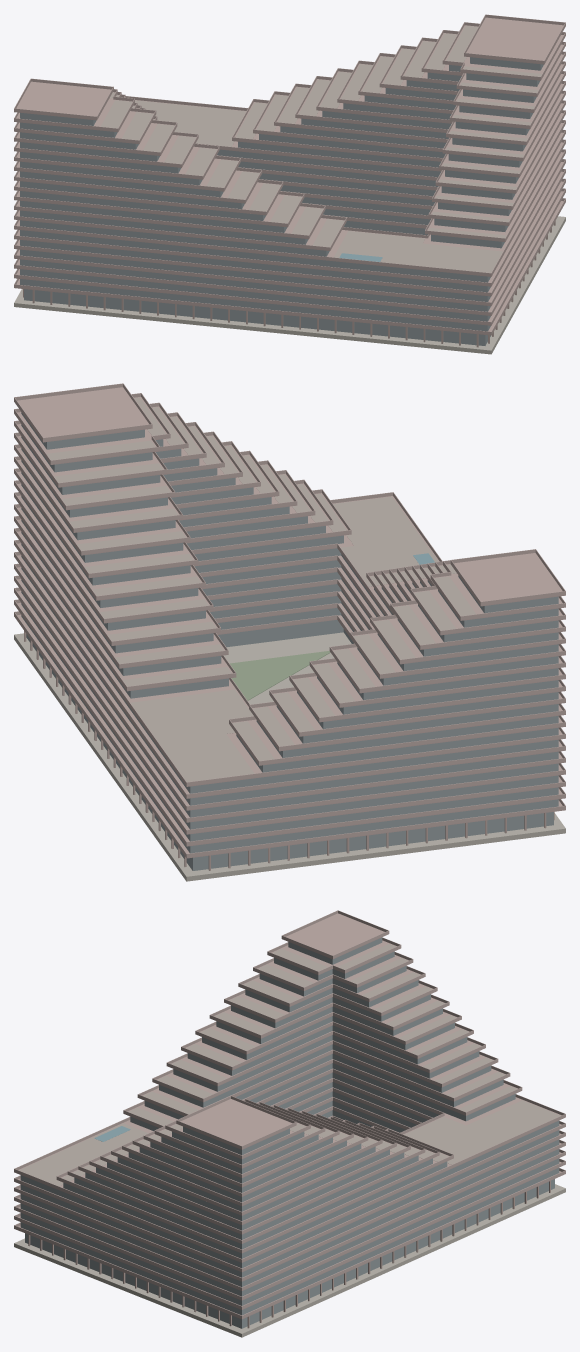
Rendered from harbourwalk-terraced-reference.glb.
The picture shows the model from 3 angles, top to bottom: view 1: azimuth 30°, elevation 25°; view 2: azimuth 150°, elevation 25°; view 3: azimuth 270°, elevation 25°; orthographic projection. The views are drawn at different scales.
Parts seen in each view (by area): view 1: harbourwalk-floor-01-glazing, harbourwalk-connected-foundation, harbourwalk-floor-07-glazing, harbourwalk-floor-06-glazing, harbourwalk-floor-05-glazing, harbourwalk-floor-04-glazing, harbourwalk-floor-03-glazing, harbourwalk-floor-07-terrace-surface-2, harbourwalk-floor-02-glazing, harbourwalk-floor-19-slab-2, harbourwalk-floor-07-terrace-surface-1, harbourwalk-floor-07-balustrade-1 (+111 smaller); view 2: harbourwalk-connected-foundation, harbourwalk-floor-07-terrace-surface-1, harbourwalk-floor-01-glazing, harbourwalk-floor-07-terrace-surface-2, harbourwalk-floor-07-glazing, harbourwalk-floor-19-slab-2, harbourwalk-floor-06-glazing, harbourwalk-floor-05-glazing, harbourwalk-floor-04-glazing, harbourwalk-floor-03-glazing, harbourwalk-floor-02-glazing, harbourwalk-floor-19-slab-1 (+114 smaller); view 3: harbourwalk-connected-foundation, harbourwalk-floor-01-glazing, harbourwalk-floor-07-glazing, harbourwalk-floor-06-glazing, harbourwalk-floor-07-terrace-surface-1, harbourwalk-floor-05-glazing, harbourwalk-floor-04-glazing, harbourwalk-floor-03-glazing, harbourwalk-floor-02-glazing, harbourwalk-floor-19-slab-2, harbourwalk-floor-07-balustrade-1, harbourwalk-floor-08-glazing-1 (+81 smaller).
Part boxes in pixels (bbox=[...]): harbourwalk-floor-01-glazing: bbox=[24, 221, 490, 345]; harbourwalk-connected-foundation: bbox=[14, 216, 565, 354]; harbourwalk-floor-07-glazing: bbox=[20, 149, 490, 282]; harbourwalk-floor-06-glazing: bbox=[20, 161, 490, 292]; harbourwalk-floor-05-glazing: bbox=[20, 173, 490, 301]; harbourwalk-floor-04-glazing: bbox=[20, 185, 490, 311]; harbourwalk-floor-03-glazing: bbox=[20, 197, 490, 321]; harbourwalk-floor-07-terrace-surface-2: bbox=[334, 231, 502, 272]; harbourwalk-floor-02-glazing: bbox=[20, 209, 490, 331]; harbourwalk-floor-19-slab-2: bbox=[464, 17, 565, 64]; harbourwalk-floor-07-terrace-surface-1: bbox=[135, 100, 246, 146]; harbourwalk-floor-07-balustrade-1: bbox=[14, 96, 565, 276]; harbourwalk-connected-foundation: bbox=[14, 632, 565, 881]; harbourwalk-floor-07-terrace-surface-1: bbox=[130, 689, 254, 782]; harbourwalk-floor-01-glazing: bbox=[26, 620, 553, 870]; harbourwalk-floor-07-terrace-surface-2: bbox=[333, 496, 438, 586]; harbourwalk-floor-07-glazing: bbox=[21, 548, 558, 793]; harbourwalk-floor-19-slab-2: bbox=[14, 387, 152, 442]; harbourwalk-floor-06-glazing: bbox=[21, 560, 558, 805]; harbourwalk-floor-05-glazing: bbox=[21, 572, 558, 817]; harbourwalk-floor-04-glazing: bbox=[21, 584, 558, 829]; harbourwalk-floor-03-glazing: bbox=[21, 596, 558, 841]; harbourwalk-floor-02-glazing: bbox=[21, 608, 558, 853]; harbourwalk-floor-19-slab-1: bbox=[450, 553, 565, 606]; harbourwalk-connected-foundation: bbox=[14, 1184, 565, 1337]; harbourwalk-floor-01-glazing: bbox=[25, 1179, 554, 1328]; harbourwalk-floor-07-glazing: bbox=[20, 1072, 559, 1268]; harbourwalk-floor-06-glazing: bbox=[20, 1082, 559, 1277]; harbourwalk-floor-07-terrace-surface-1: bbox=[404, 1100, 560, 1164]; harbourwalk-floor-05-glazing: bbox=[20, 1091, 559, 1286]; harbourwalk-floor-04-glazing: bbox=[20, 1101, 559, 1296]; harbourwalk-floor-03-glazing: bbox=[20, 1110, 559, 1305]; harbourwalk-floor-02-glazing: bbox=[20, 1168, 559, 1315]; harbourwalk-floor-19-slab-2: bbox=[176, 1099, 296, 1149]; harbourwalk-floor-07-balustrade-1: bbox=[14, 1094, 565, 1261]; harbourwalk-floor-08-glazing-1: bbox=[63, 1161, 447, 1258].
Bounding box in the file's own units: 167 × 62.94 × 165.
